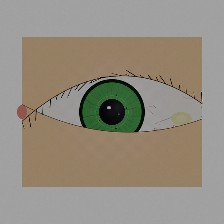pinguecula_lesion: (161, 102, 202, 135)
